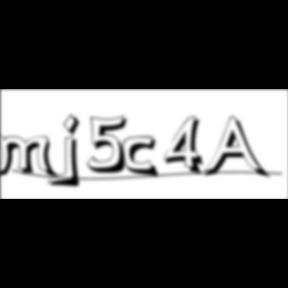4: (164, 115, 210, 179)
5: (86, 114, 134, 176)
A: (204, 116, 272, 182)
c: (123, 136, 163, 180)
j: (60, 113, 88, 191)
m: (0, 132, 60, 181)
